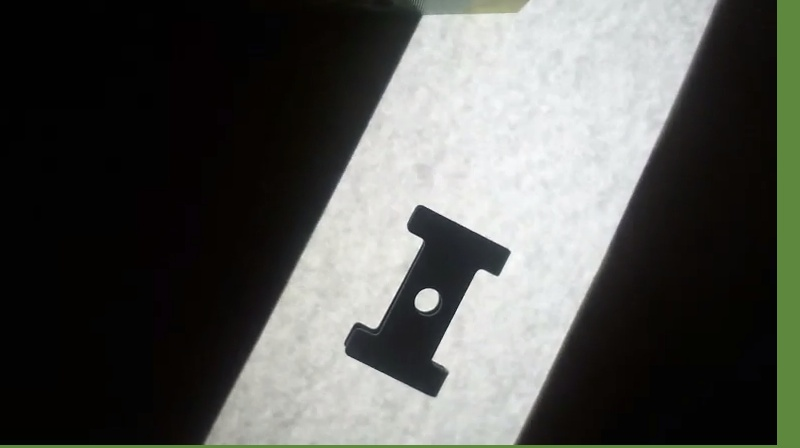O002: (341, 201, 513, 397)
